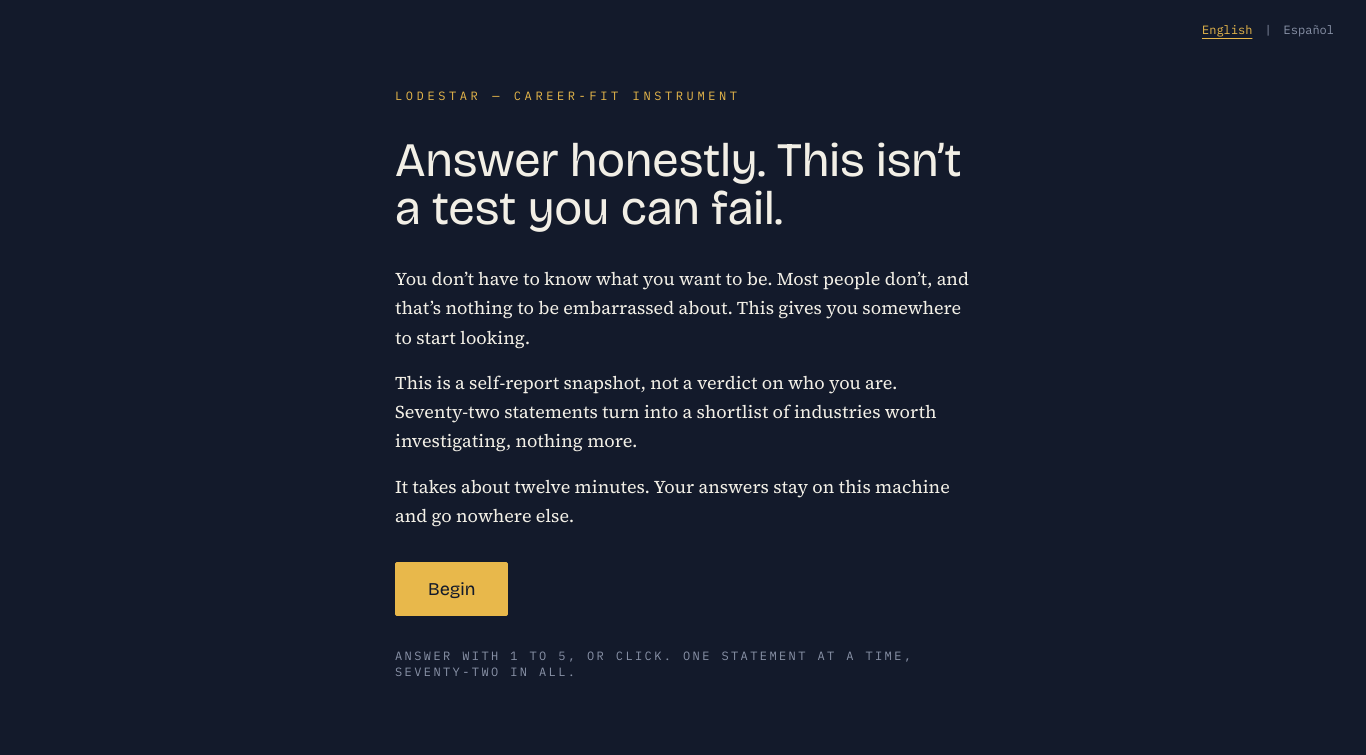
it: assessment flow › answers with the number keys and advances
The width and height of the screenshot is (1366, 755).
Step 1. Click the button "Begin" → (452,589), box 395,562 -> 508,616
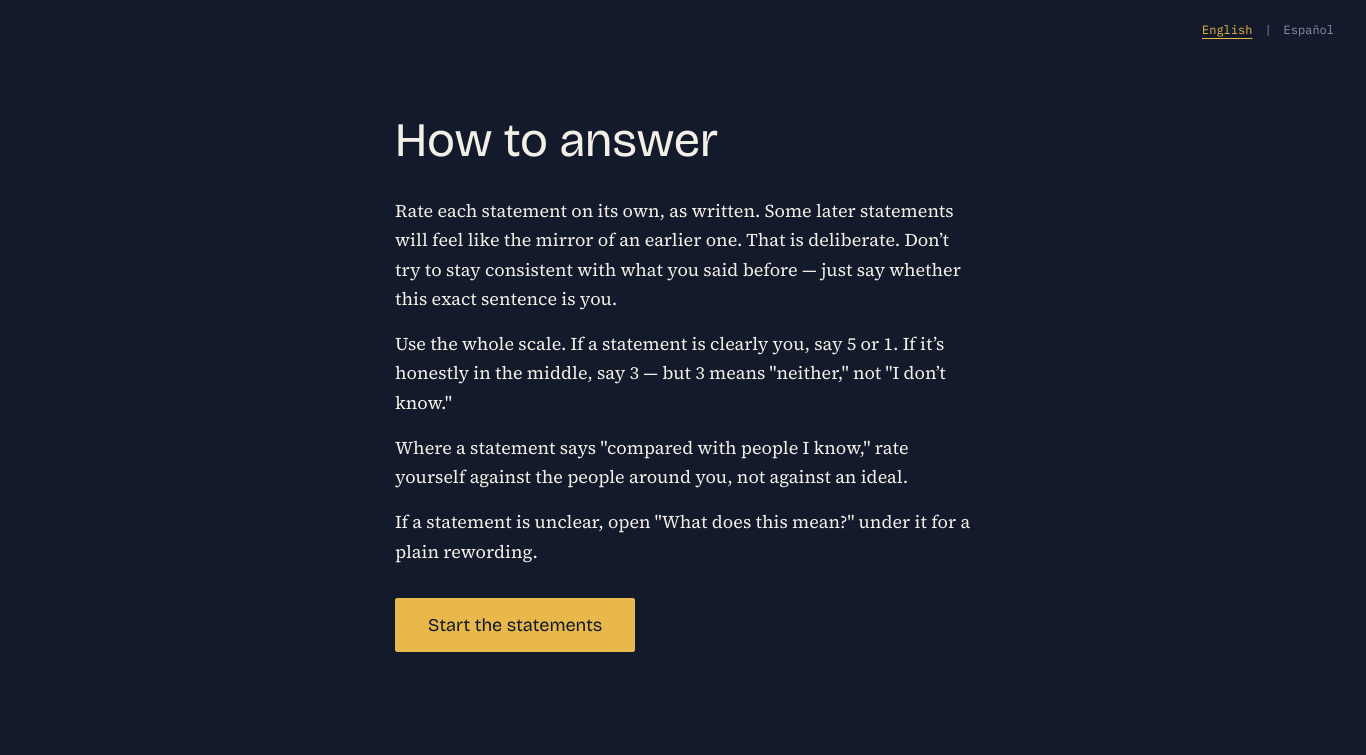
Step 2. Click the button "Start the statements" → (515,625), box 395,598 -> 635,652
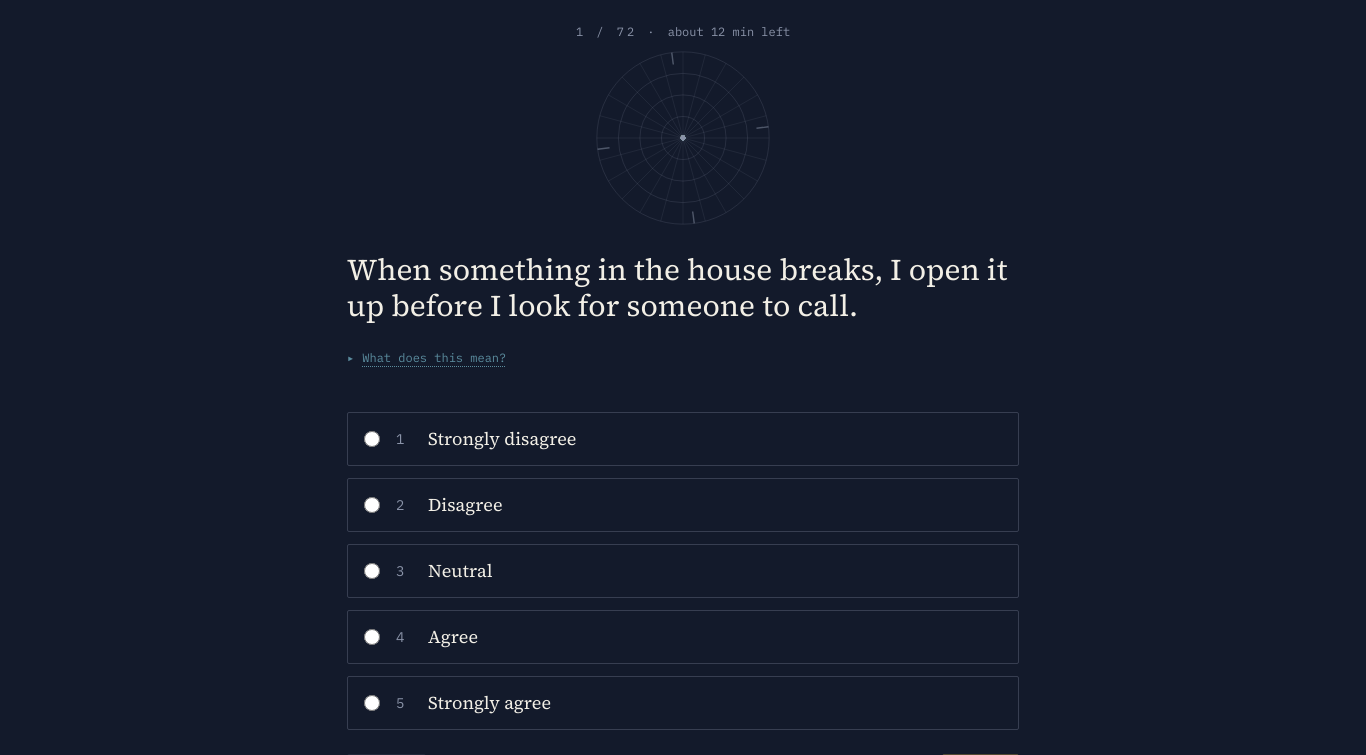
Step 3. Press 4
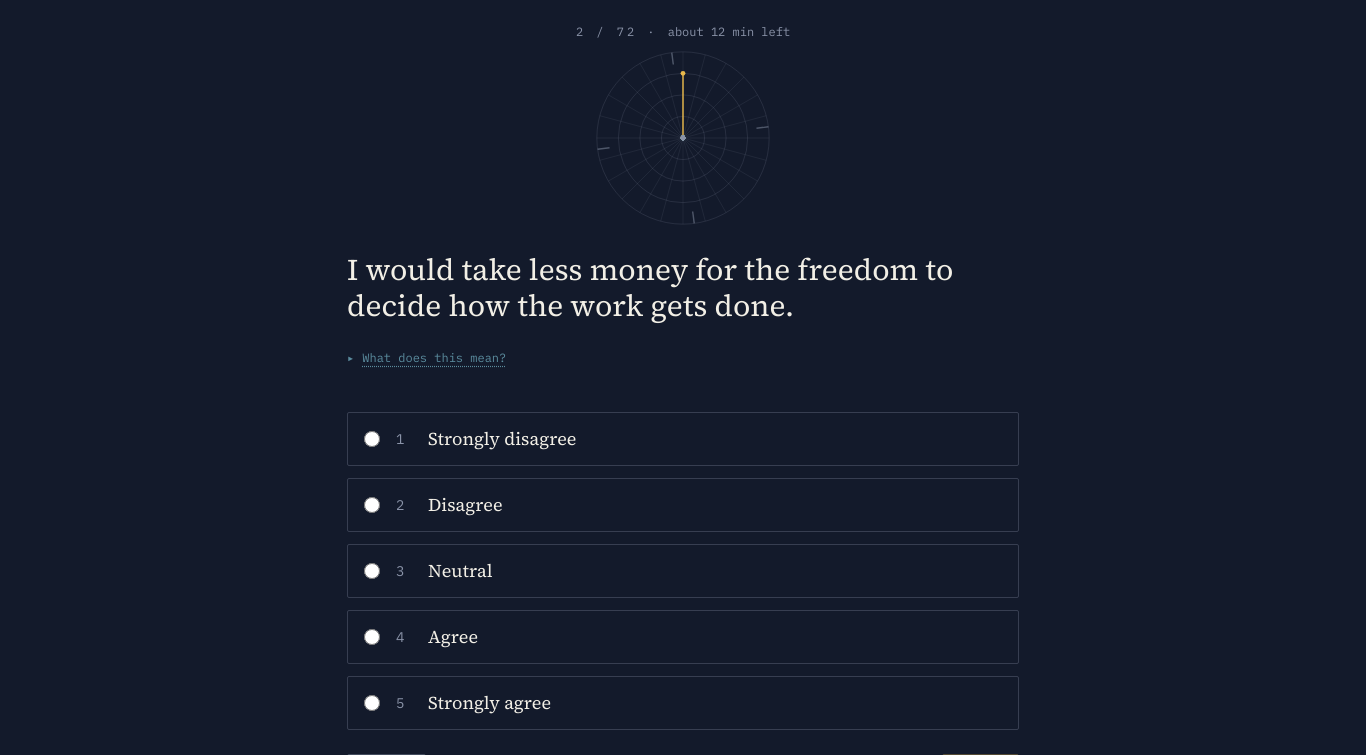
Result: the text "I would take less money for the freedom to decide how the work gets done." is shown at 347,252 -> 1019,324
